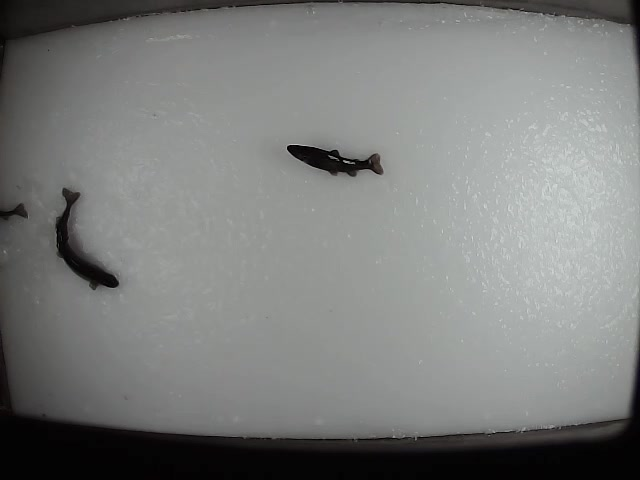Fish: (56, 187, 119, 290), (287, 145, 384, 177)
